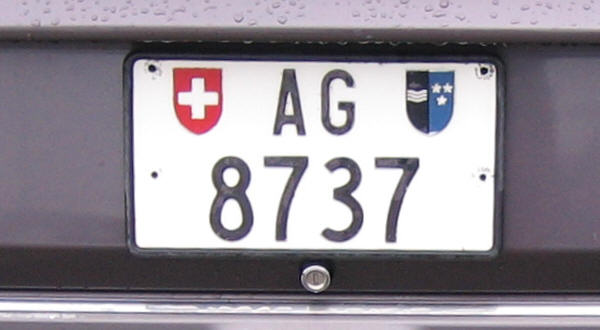license_plate: (129, 57, 498, 253)
